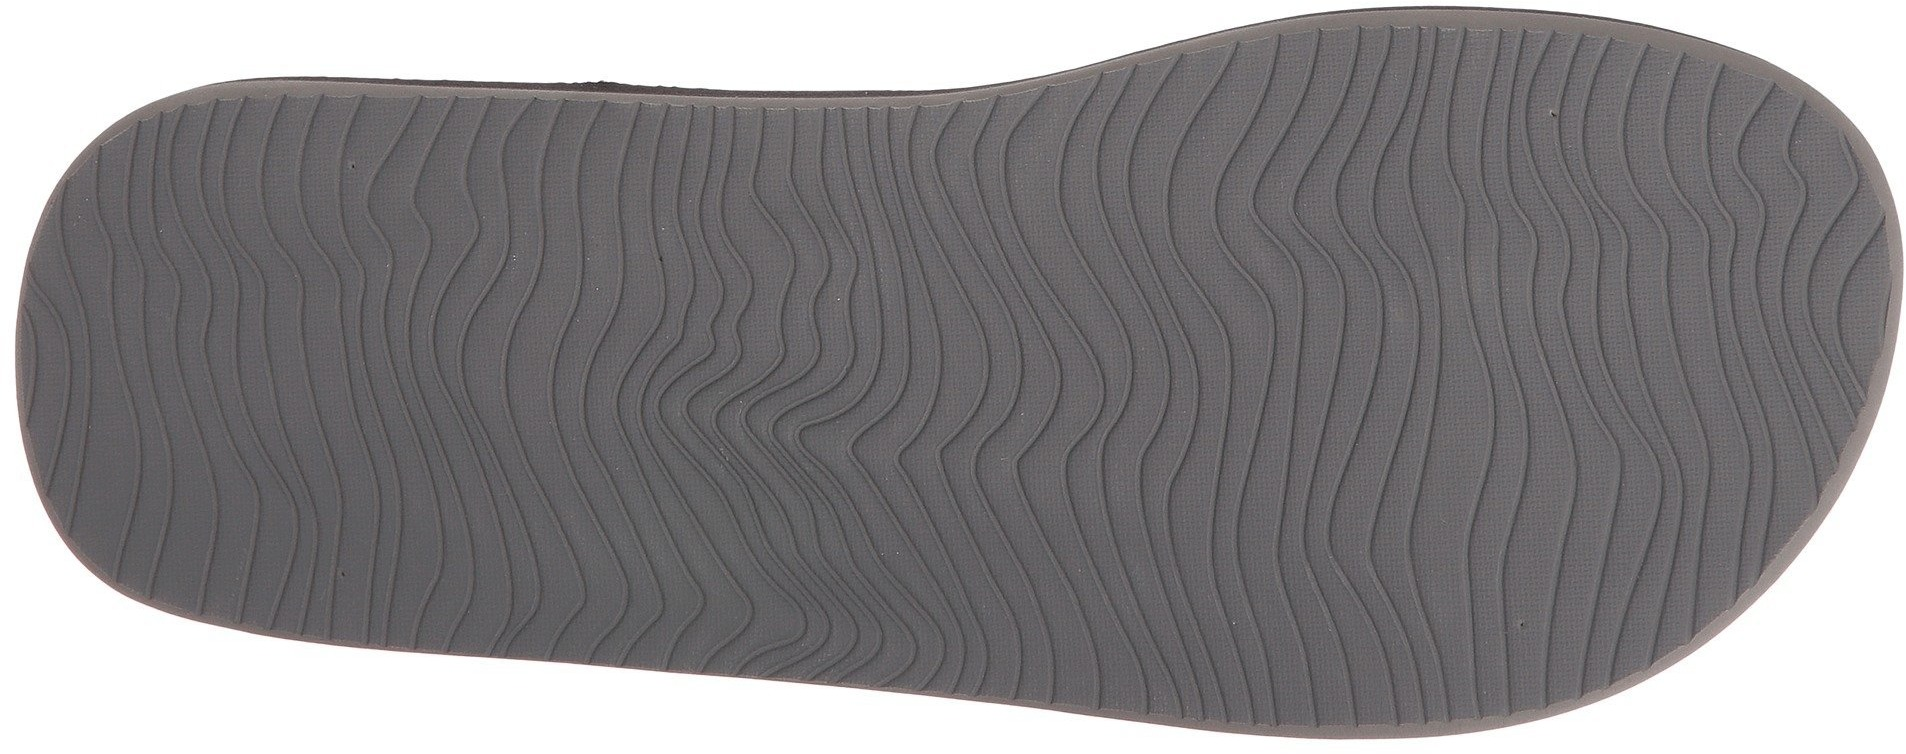chevron: (492, 101, 1094, 700)
line: (492, 101, 1094, 700), (1079, 85, 1703, 648), (83, 161, 515, 556)
